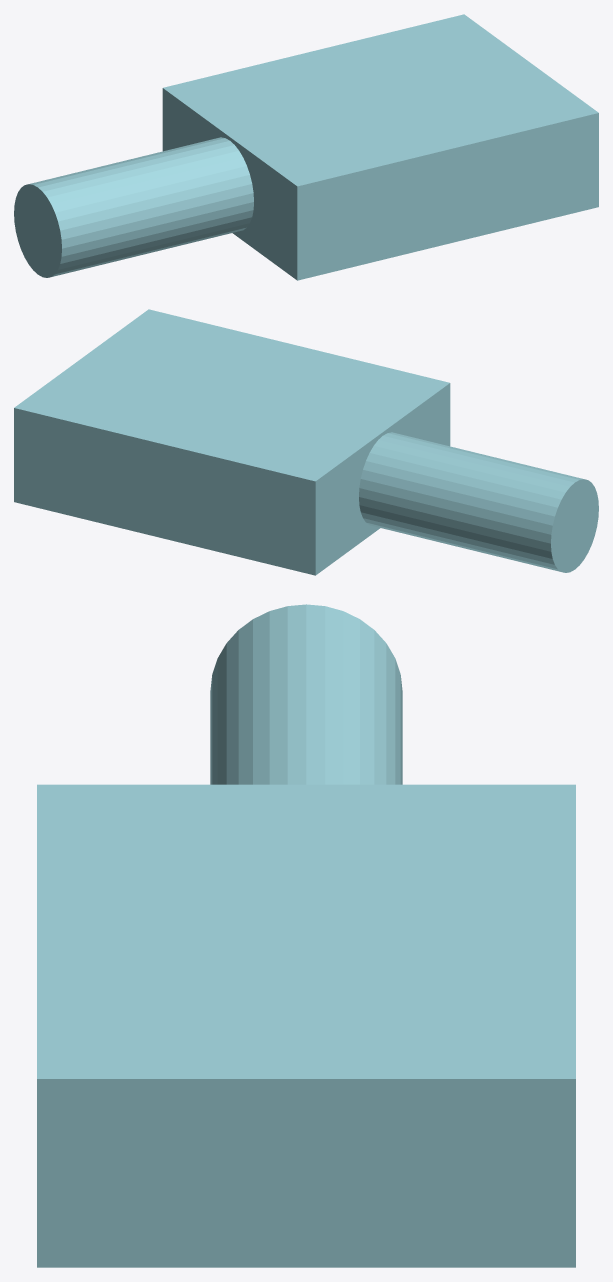
Rendered from cylinder_brush_v9015.obj.
3 renders of one model, top to bottom at view 1: azimuth 30°, elevation 25°; view 2: azimuth 150°, elevation 25°; view 3: azimuth 270°, elevation 25°, orthographic. The views are drawn at different scales.
Size of the model in its own units: 0.167 by 0.0305 by 0.079.
Materials: 1 (1 with a texture image).
